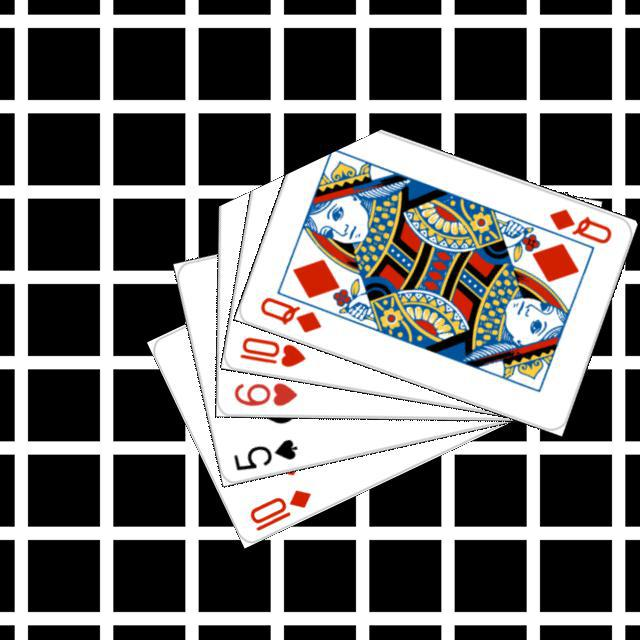10d: (245, 484, 313, 533)
10h: (234, 332, 308, 369)
5s: (228, 434, 300, 472)
6h: (229, 378, 299, 408)
Qd: (544, 203, 614, 246), (255, 292, 323, 335)
